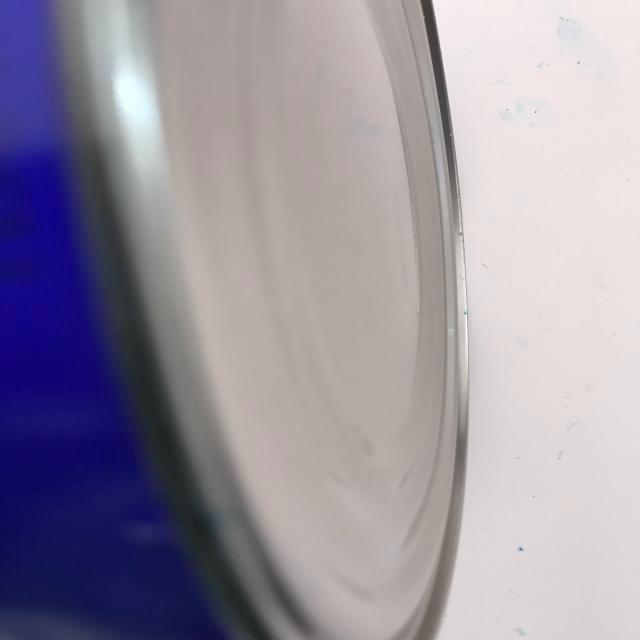metal: (0, 0, 509, 640)
